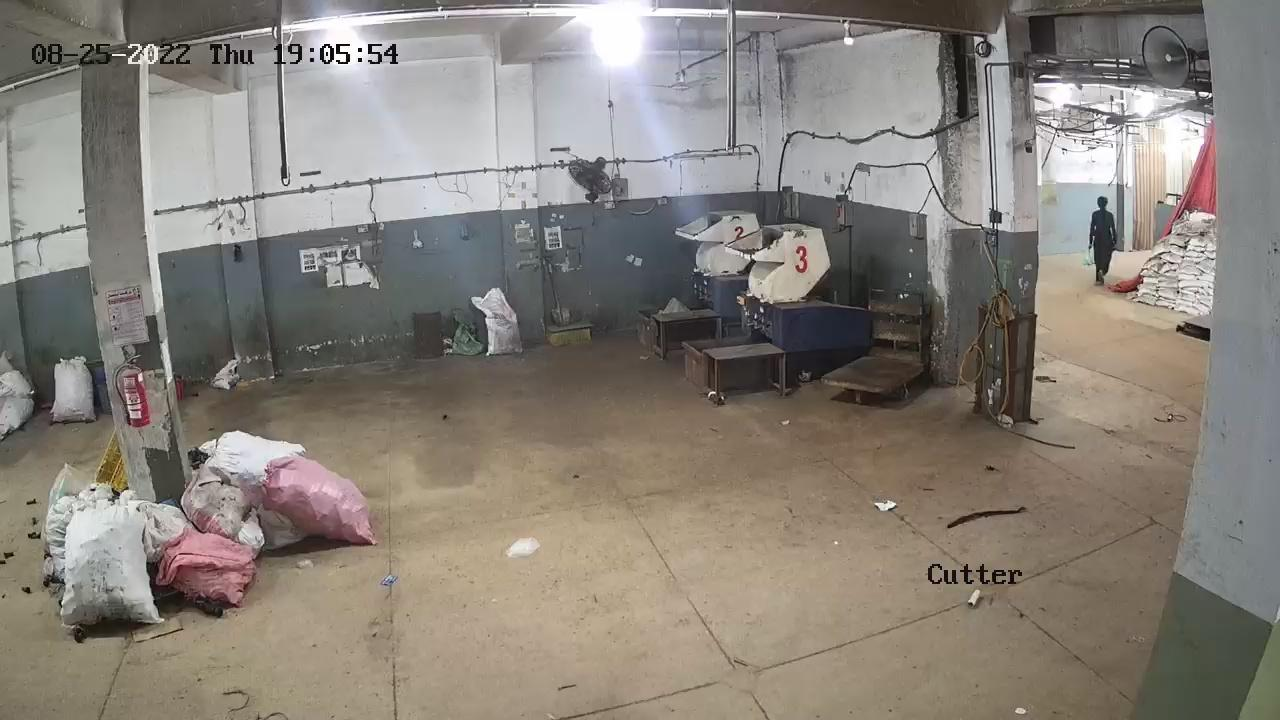person: (1089, 183, 1118, 287)
